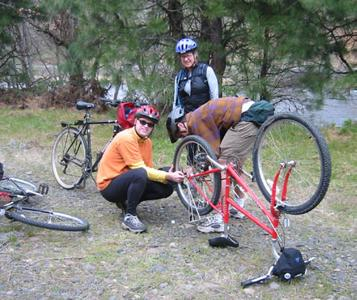person: (166, 97, 272, 234)
